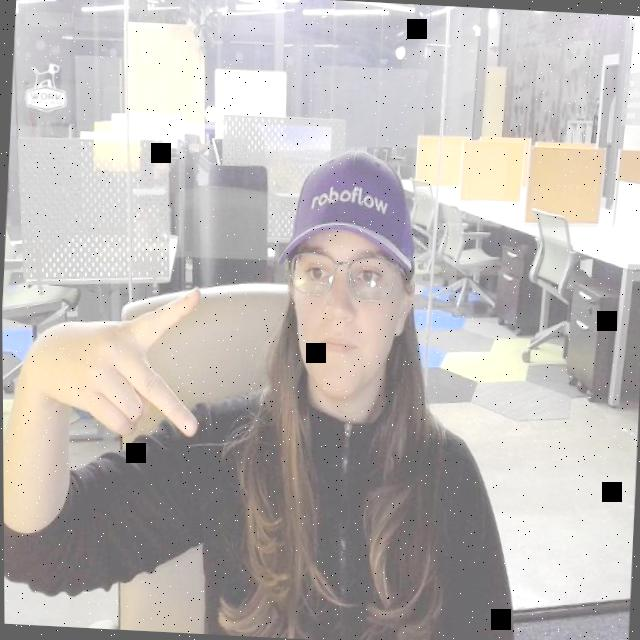Scissors: (13, 279, 248, 449)
